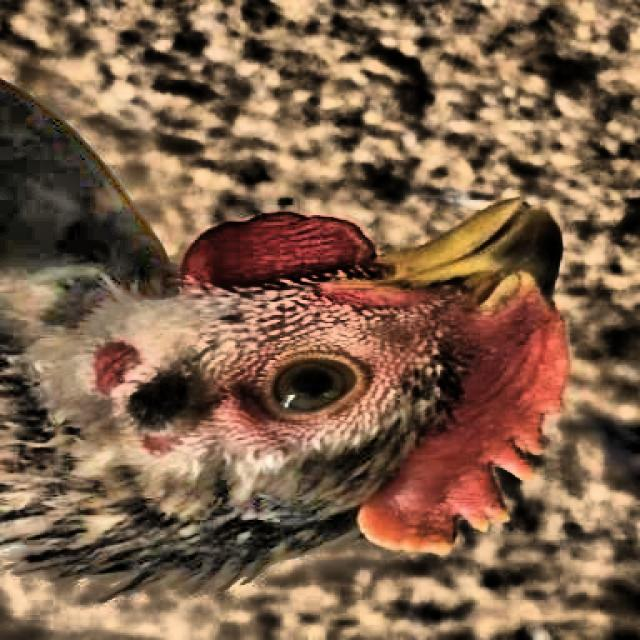Healthy: (226, 333, 402, 450)
